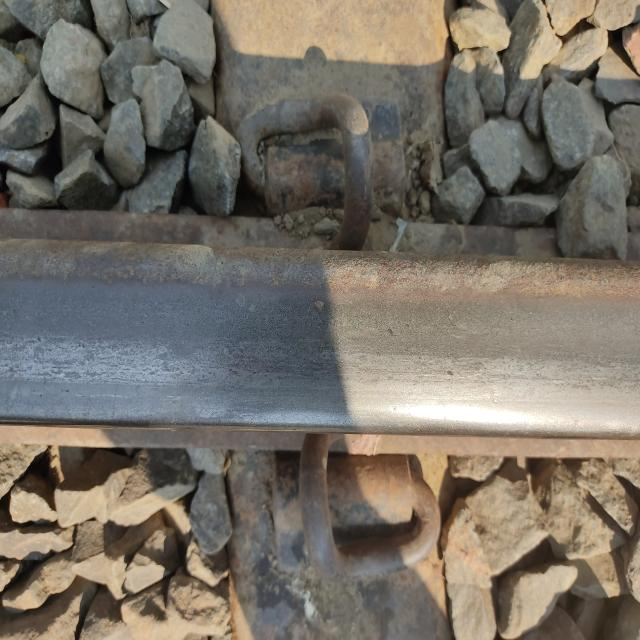No Fault: (246, 92, 408, 247), (270, 442, 442, 586)
